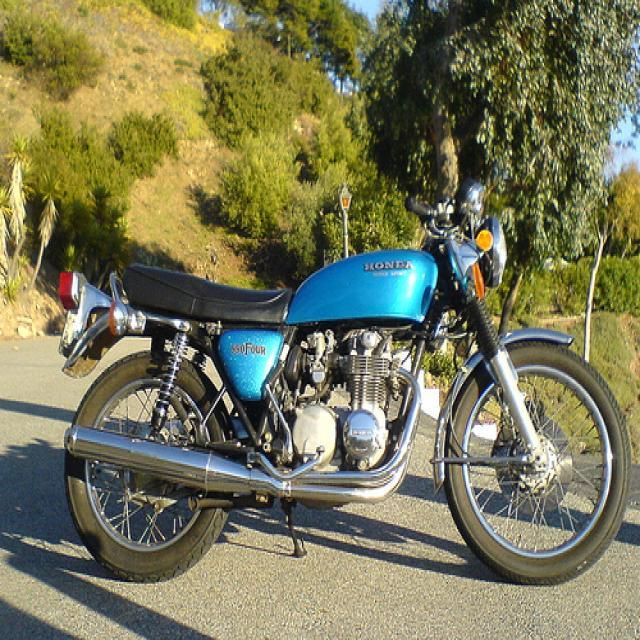Motorbike: (47, 163, 640, 593)
